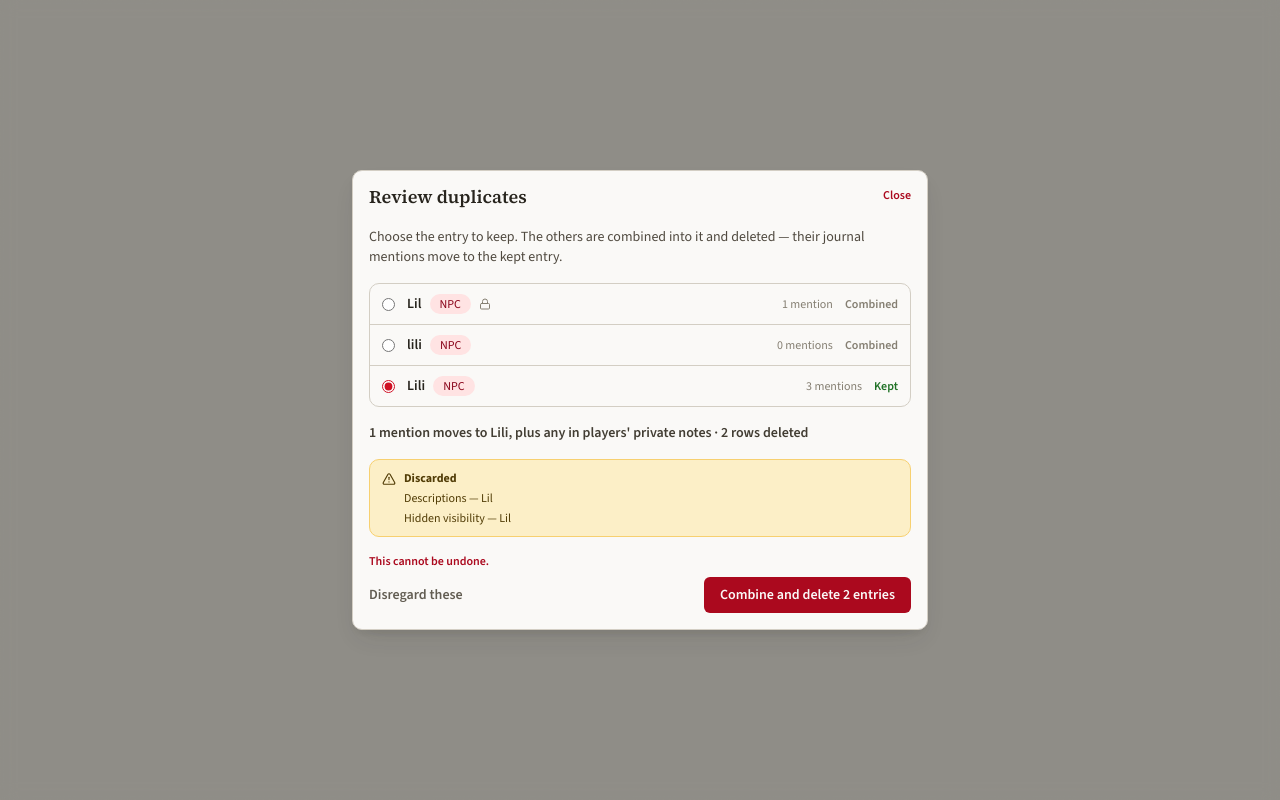
Scenario: ReviewDuplicatesModal › surfaces a cross-loser 409 (two character-linked losers, round-2 hardening) readably
Expected: the list item "Hidden visibility — Lil" is shown, x1=404 y1=510 x2=511 y2=526
Click the button "Combine and delete 2 entries".
click(807, 595)  # box x1=704 y1=577 x2=911 y2=613
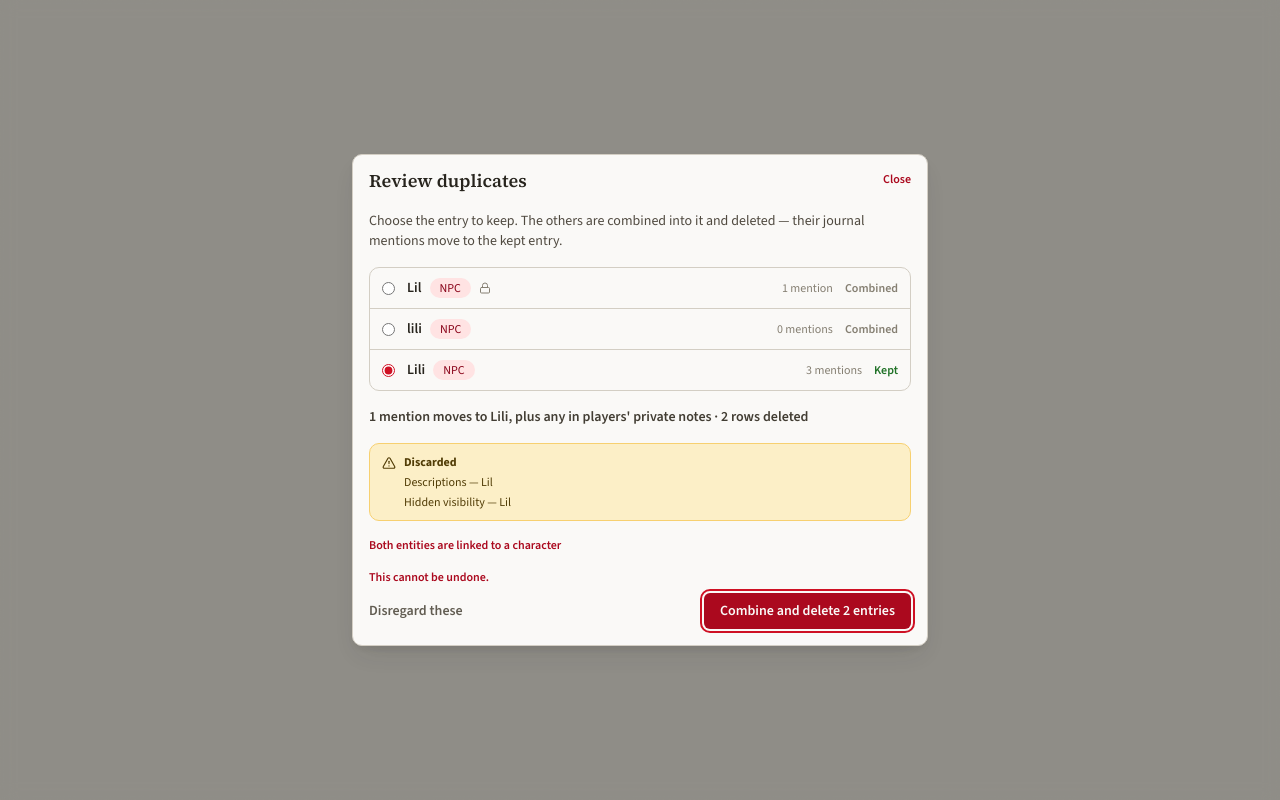
Expected: the text "Both entities are linked to a character" is shown, x1=369 y1=537 x2=561 y2=553
